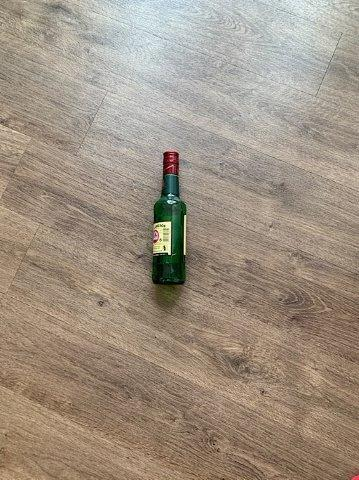botolkaca: (154, 151, 186, 283)
